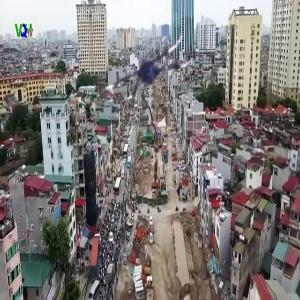drone: (100, 16, 195, 111)
